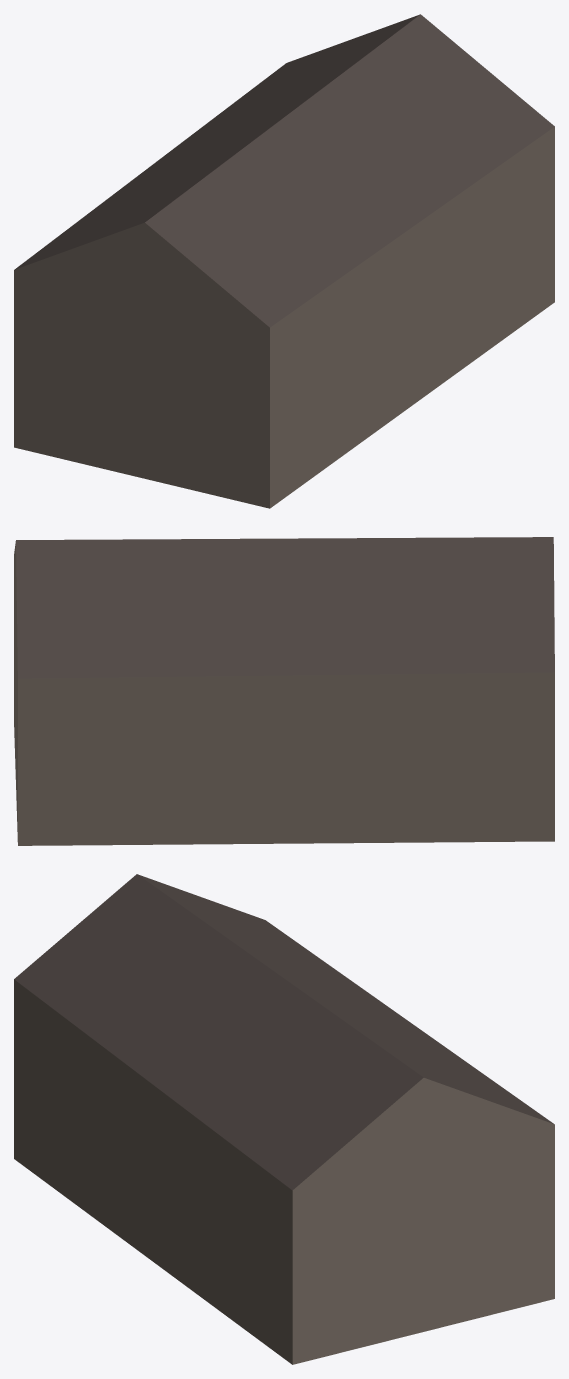
3 views of the same model, one above another, from view 1: azimuth 30°, elevation 25°; view 2: azimuth 150°, elevation 25°; view 3: azimuth 270°, elevation 25° (orthographic). The views are drawn at different scales.
Parts seen in each view (by area): view 1: HP-w1512359829; view 2: HP-w1512359829; view 3: HP-w1512359829.
Boxes of the visible parts, left/top/right/bottom form: HP-w1512359829: left=14, top=14, right=554, bottom=508; HP-w1512359829: left=14, top=537, right=554, bottom=845; HP-w1512359829: left=14, top=874, right=554, bottom=1364.
Bounding box in the file's own units: 29.73 × 13.12 × 25.3.
